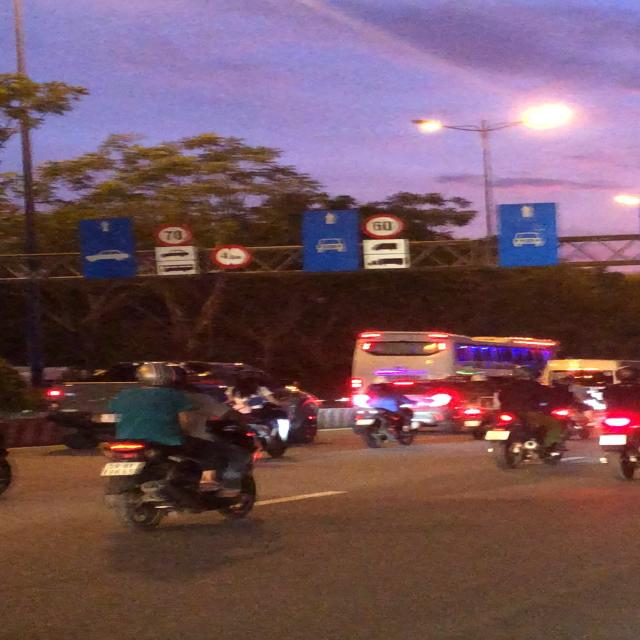Bien bao han che chieu cao: (211, 242, 256, 272)
Bien bao toc do toi da cho phep: (356, 210, 406, 239), (148, 224, 202, 246)
